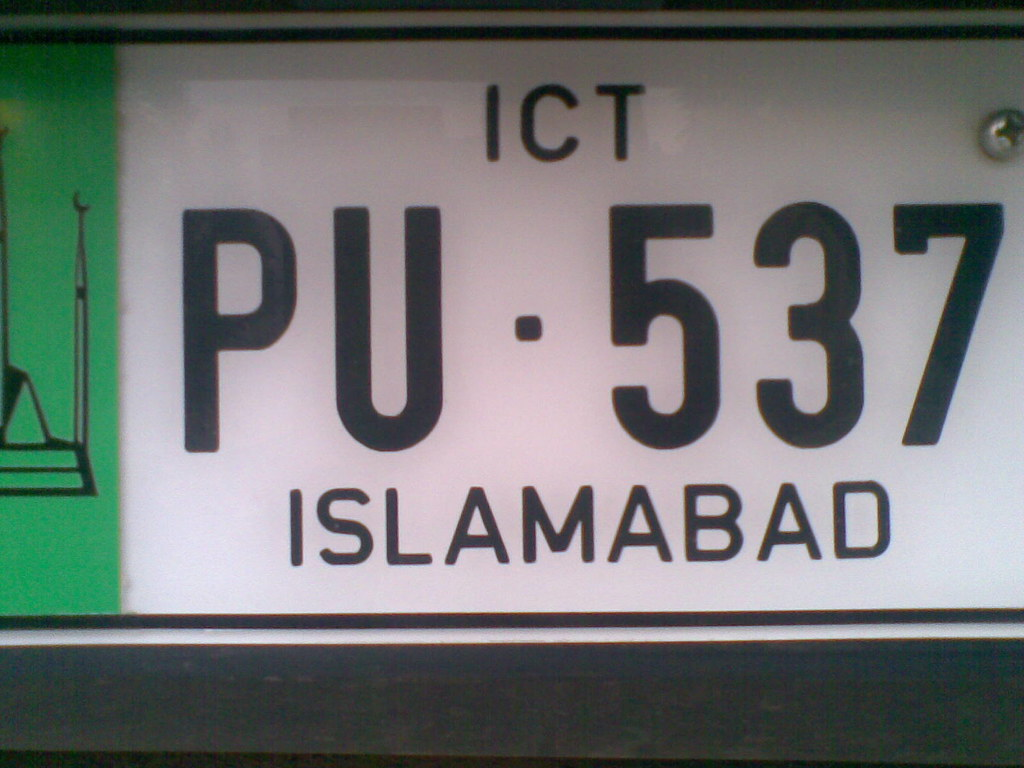3: (742, 193, 875, 452)
5: (594, 194, 736, 452)
7: (885, 194, 1009, 457)
A: (753, 476, 828, 569), (443, 483, 516, 571), (604, 482, 677, 566)
B: (680, 479, 747, 566)
C: (513, 80, 590, 166)
D: (829, 475, 896, 564)
I: (474, 82, 514, 166), (280, 486, 314, 571)
L: (380, 484, 437, 571)
M: (517, 483, 601, 568)
P: (163, 201, 309, 469)
S: (313, 486, 378, 570)
T: (590, 77, 652, 164)
U: (322, 200, 457, 456)
